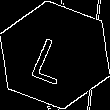L_N: (30, 26, 80, 84)
